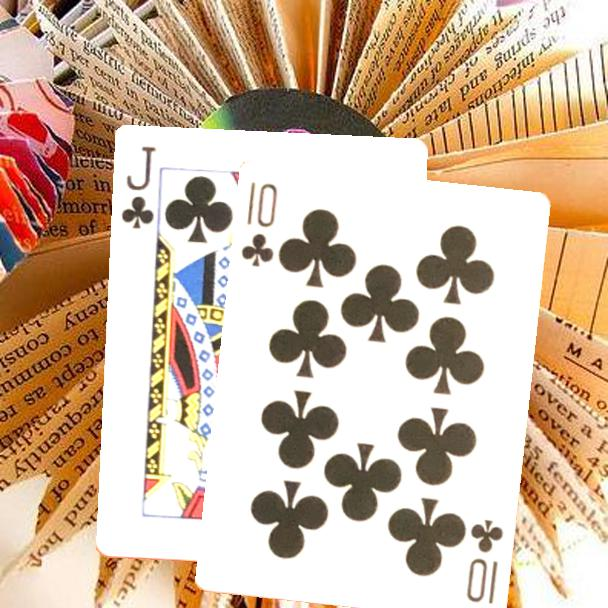c10: (463, 516, 506, 607), (238, 179, 281, 270)
c11: (118, 143, 159, 232)
